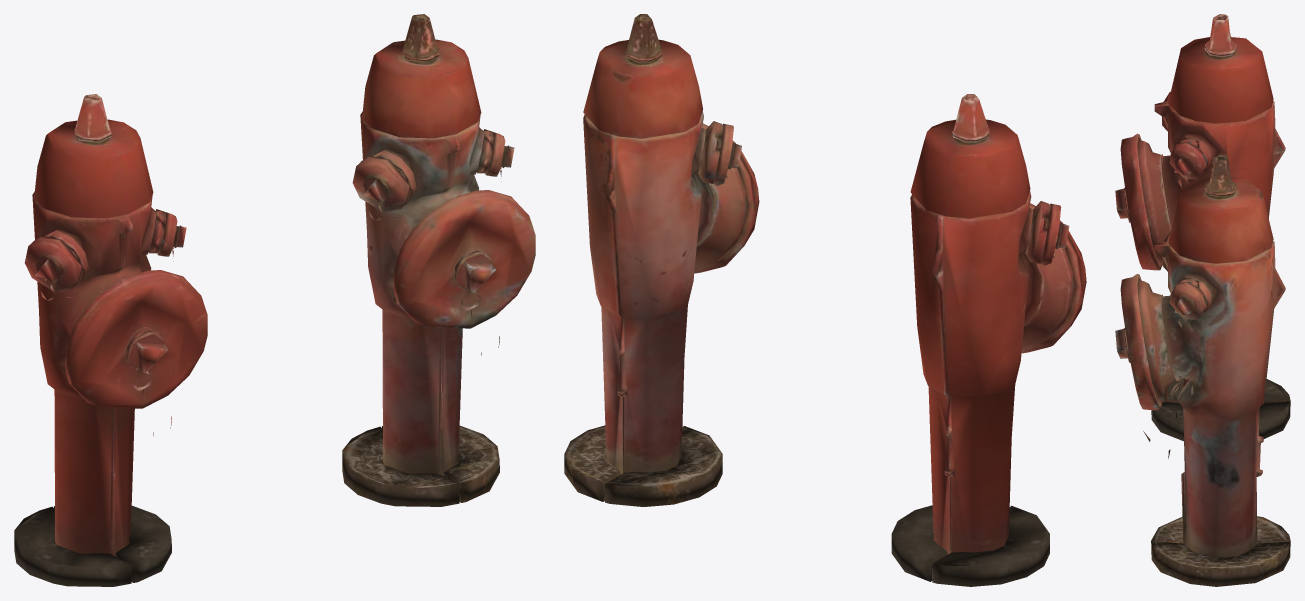
File: fire_hydrant.glb
The picture shows the model from 3 angles, left to right: view 1: azimuth 30°, elevation 25°; view 2: azimuth 150°, elevation 25°; view 3: azimuth 270°, elevation 25°; orthographic projection. The views are drawn at different scales.
Visible parts, largest first — view 1: fire_hydrant_aged, fire_hydrant; view 2: fire_hydrant, fire_hydrant_aged; view 3: fire_hydrant_aged, fire_hydrant.
Part boxes in pixels (x1=…): fire_hydrant_aged: x1=342, y1=14, x2=535, y2=506; fire_hydrant: x1=14, y1=94, x2=207, y2=586; fire_hydrant: x1=891, y1=94, x2=1086, y2=586; fire_hydrant_aged: x1=564, y1=14, x2=759, y2=506; fire_hydrant_aged: x1=1115, y1=154, x2=1290, y2=586; fire_hydrant: x1=1115, y1=14, x2=1290, y2=441.
Bounding box in the file's own units: 0.8728 × 0.7992 × 0.3173.
2 materials, 2 textured.
